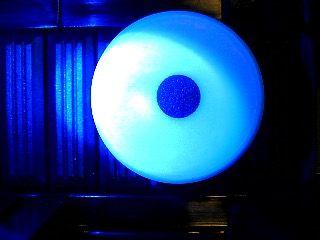BOHO: (89, 10, 265, 184)
